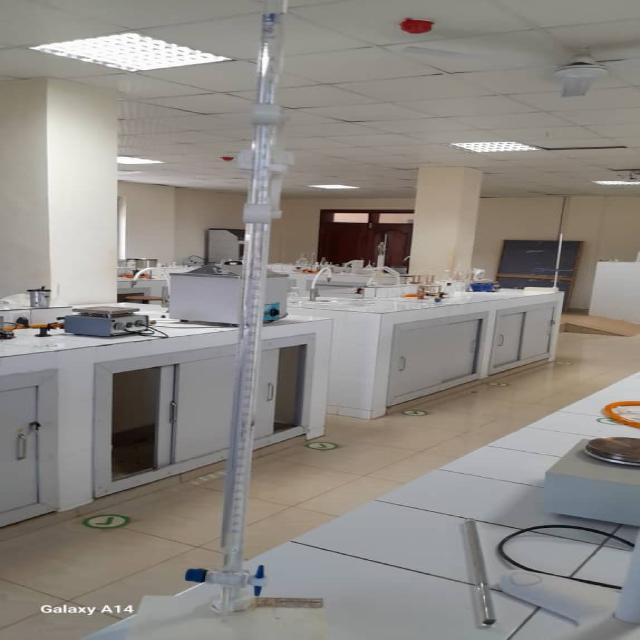Biurette: (178, 11, 314, 620)
